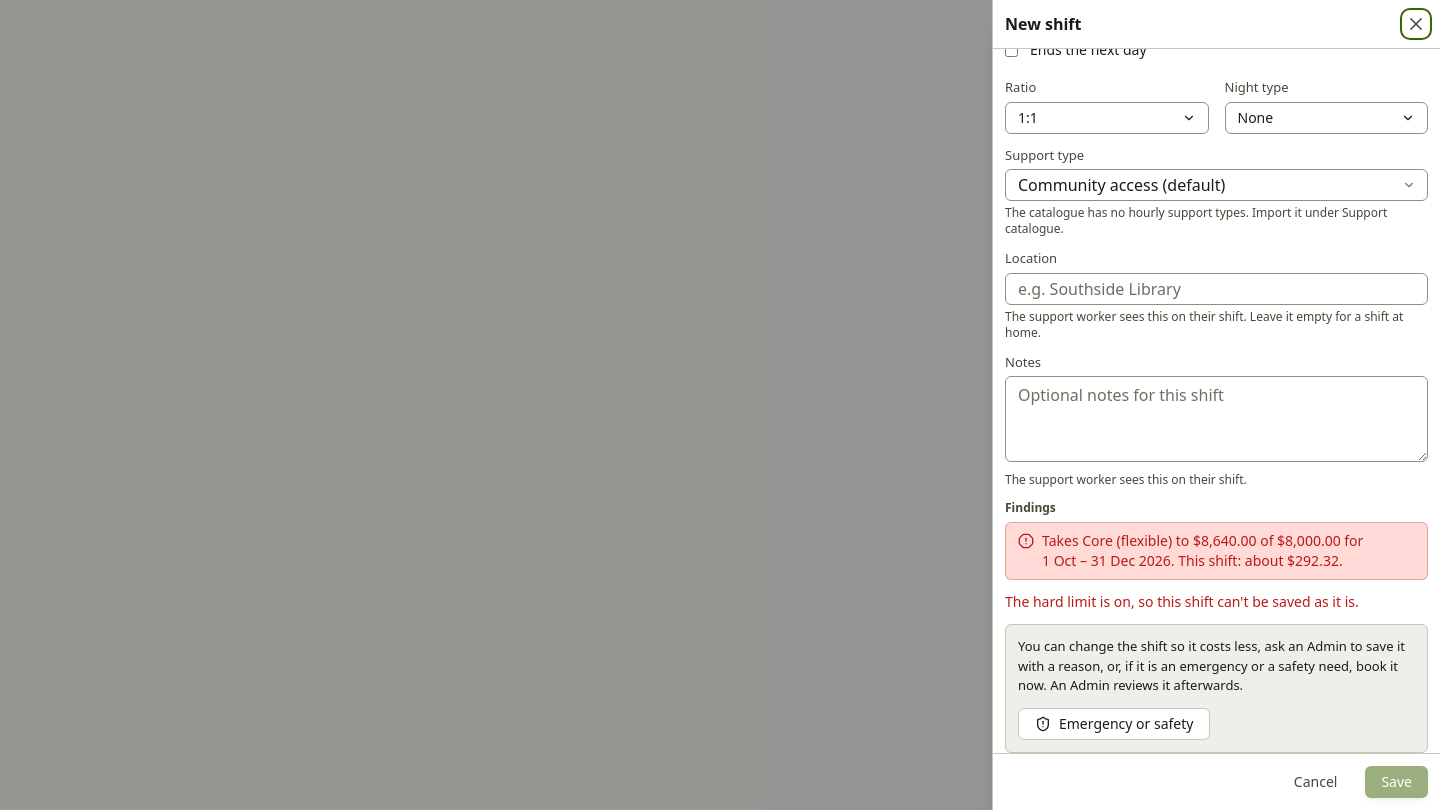
Test: a Coordinator the budget refused › moves focus to the description once the emergency path is chosen, and keeps Save disabled until it is real
(page scrolled)
Check: the text "Takes Core" is shown, box [1042,531,1363,570]
Click the button "Emergency or safety".
click(1114, 724)  # box [1018,708,1210,740]
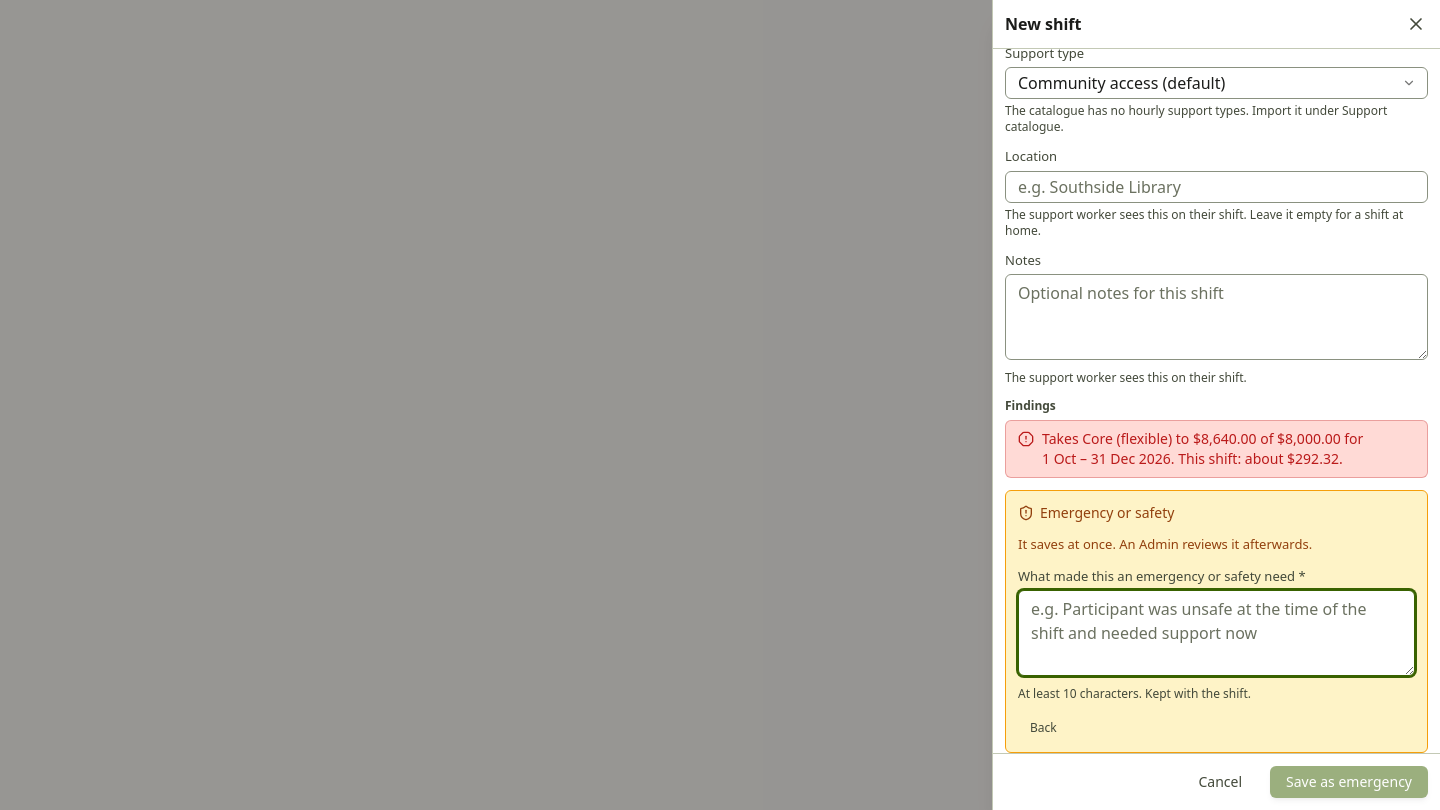
Check: the button "Save as emergency" is disabled, box [1270,766,1428,798]
Type "too short" into the text box labelled "What made this an emergency or safety need *".
click(1216, 633); type("too short")  # box [1018,590,1415,676]
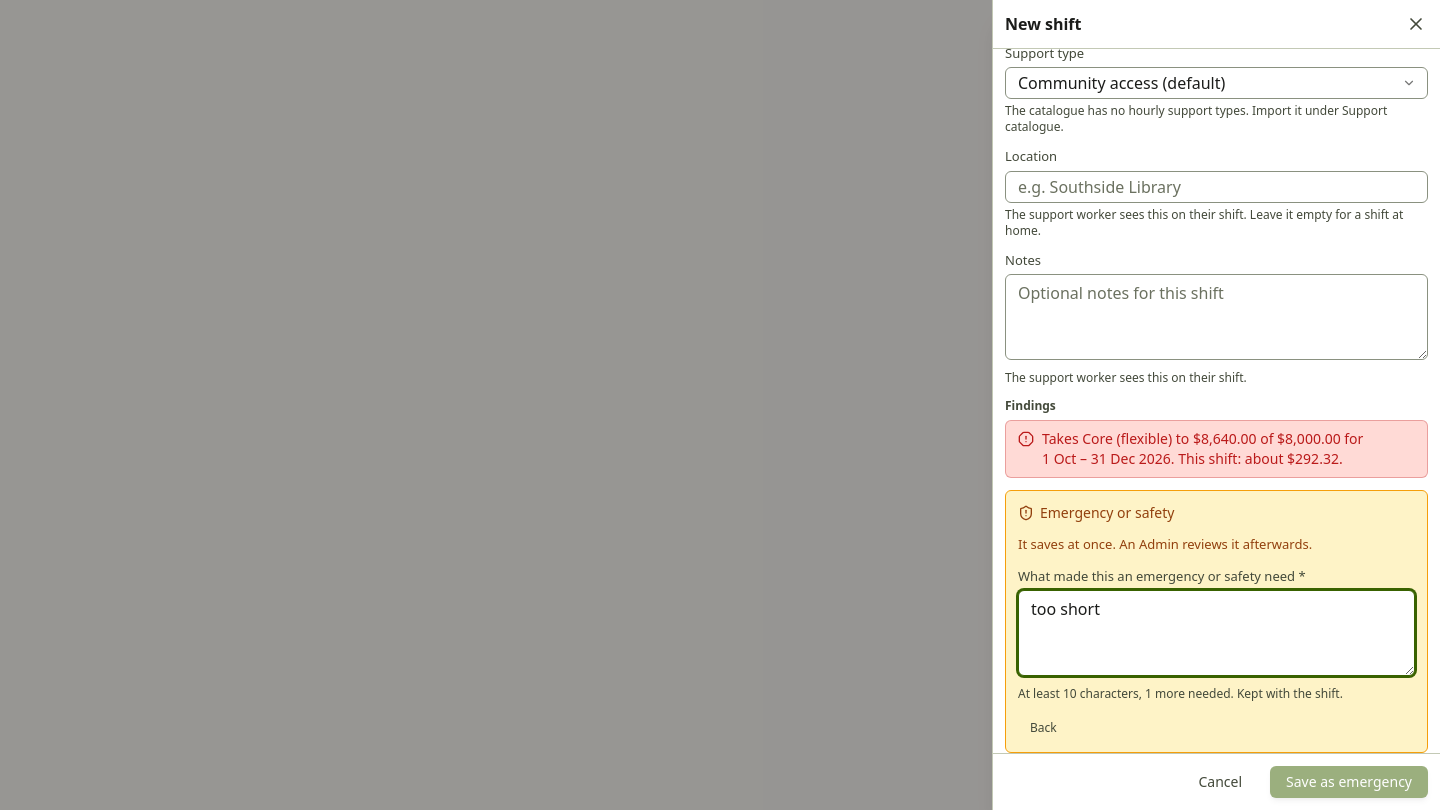
Check: the button "Save as emergency" is disabled, box [1270,766,1428,798]
Type "!" into the text box labelled "What made this an emergency or safety need *".
click(1216, 633); type("!")  # box [1018,590,1415,676]
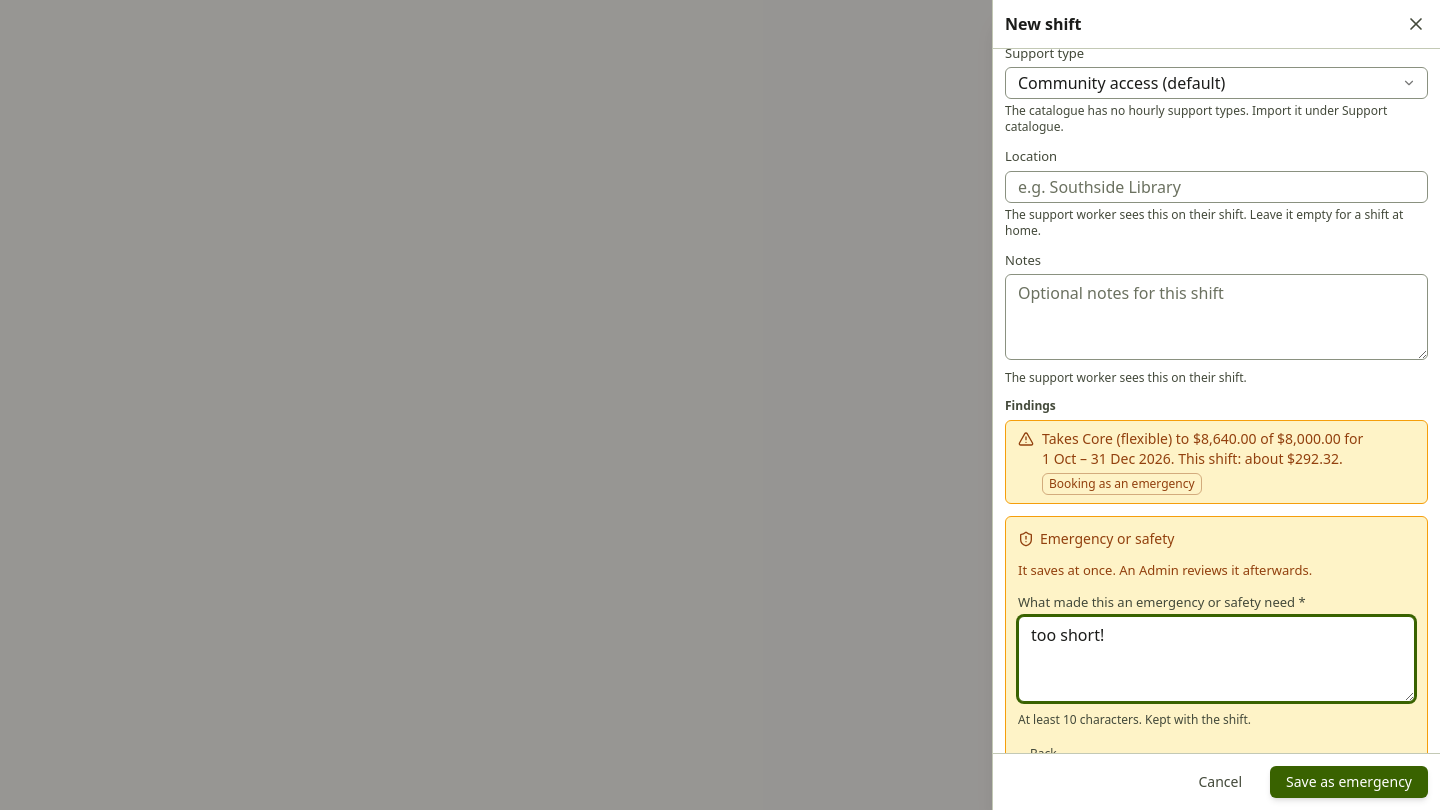
Check: the button "Save as emergency" is shown, box [1270,766,1428,798]
Check: the button "Save as emergency" is enabled, box [1270,766,1428,798]
